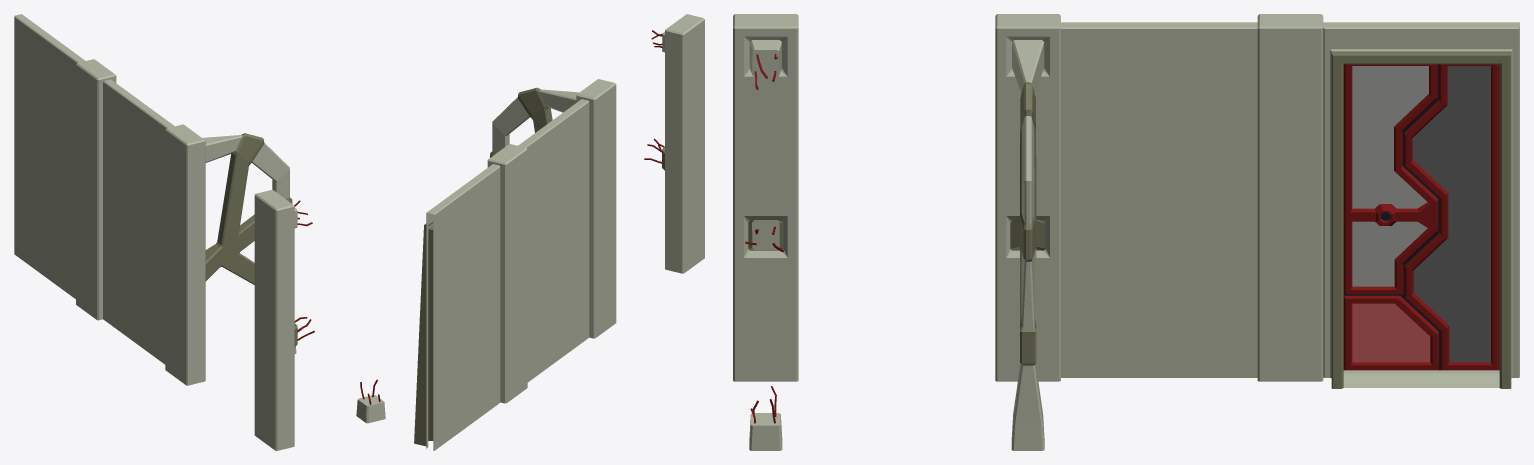
The model's file is Wallsections_07_06_2016.fbx.
3 renders of one model, left to right at view 1: azimuth 30°, elevation 25°; view 2: azimuth 150°, elevation 25°; view 3: azimuth 270°, elevation 25°, orthographic. The views are drawn at different scales.
Visible parts, largest first — view 1: Wall_Support, Wall_section, Wall_section_Top_Gate, Wall_Support_Collapsed, Pillar; view 2: Wall_section_Top_Gate, Wall_section, Wall_Support_Collapsed, Wall_Support, Pillar; view 3: Wall_section_Top_Gate, Wall_section, Wall_Support, Wall_Support_Collapsed, Pillar.
Boxes of the visible parts, bbox=[...] form: Wall_Support: bbox=[165, 124, 296, 385]; Wall_section: bbox=[103, 79, 174, 364]; Wall_section_Top_Gate: bbox=[14, 14, 85, 298]; Wall_Support_Collapsed: bbox=[254, 189, 385, 450]; Pillar: bbox=[76, 59, 116, 320]; Wall_section_Top_Gate: bbox=[414, 164, 500, 450]; Wall_section: bbox=[518, 99, 589, 382]; Wall_Support_Collapsed: bbox=[644, 14, 704, 273]; Wall_Support: bbox=[490, 79, 616, 338]; Pillar: bbox=[487, 144, 527, 403]; Wall_section_Top_Gate: bbox=[1323, 22, 1519, 388]; Wall_section: bbox=[1061, 22, 1257, 377]; Wall_Support: bbox=[995, 14, 1060, 450]; Wall_Support_Collapsed: bbox=[733, 14, 798, 450]; Pillar: bbox=[1257, 14, 1323, 381].
Bounding box in the file's own units: 2025 × 4034 × 8100.
